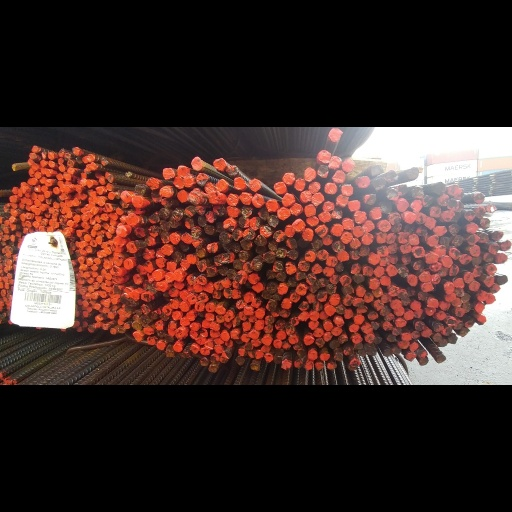dipstick: (292, 180, 305, 211), (213, 60, 226, 88), (329, 1, 342, 29), (384, 83, 398, 109), (342, 62, 355, 89), (353, 165, 366, 192), (316, 45, 330, 70), (369, 73, 383, 98), (252, 131, 264, 160), (441, 165, 456, 188), (372, 101, 385, 127), (436, 132, 449, 158), (266, 143, 278, 171), (282, 90, 294, 118), (191, 57, 202, 87), (146, 99, 159, 124), (208, 128, 221, 153), (222, 181, 235, 206), (273, 108, 286, 133), (319, 166, 332, 191), (331, 87, 344, 112), (380, 147, 393, 172), (233, 98, 245, 125), (125, 172, 138, 196), (162, 80, 174, 106), (239, 128, 251, 154), (277, 158, 289, 184), (315, 195, 328, 219), (356, 97, 369, 121), (226, 130, 237, 158), (387, 171, 401, 193), (273, 205, 285, 230), (308, 107, 320, 132), (336, 132, 348, 157), (434, 108, 446, 133), (429, 155, 441, 180), (400, 252, 412, 277), (159, 117, 172, 140), (311, 131, 324, 154), (363, 428, 376, 451), (176, 126, 187, 153), (205, 164, 216, 191), (377, 186, 391, 207), (120, 126, 132, 150), (150, 125, 162, 149), (172, 99, 184, 123), (188, 128, 200, 152), (341, 112, 353, 136), (407, 81, 419, 105), (413, 117, 425, 141), (362, 186, 374, 210), (413, 262, 425, 286), (386, 273, 398, 297), (249, 102, 260, 128), (249, 178, 260, 204), (242, 201, 255, 223), (283, 131, 294, 157), (331, 192, 342, 218), (317, 75, 328, 101), (348, 144, 361, 166), (411, 143, 422, 169), (416, 193, 427, 219), (296, 310, 307, 336), (304, 81, 314, 109), (433, 195, 447, 215), (158, 160, 170, 183), (206, 229, 218, 252), (240, 154, 252, 177), (254, 214, 266, 237), (304, 246, 316, 269), (370, 159, 382, 182), (466, 188, 478, 211), (427, 214, 439, 237), (429, 266, 441, 289), (371, 317, 383, 340), (169, 209, 180, 234), (404, 166, 415, 191), (389, 314, 400, 339), (355, 313, 366, 338), (285, 219, 298, 240), (324, 110, 337, 131), (448, 191, 461, 212), (433, 236, 446, 257), (425, 249, 438, 270), (303, 201, 313, 228), (330, 57, 340, 84), (143, 240, 154, 264), (148, 195, 159, 219), (177, 75, 188, 99), (204, 109, 216, 131), (226, 75, 238, 97), (226, 156, 238, 178), (181, 208, 192, 232), (161, 232, 172, 256), (290, 153, 301, 177), (304, 154, 316, 176), (375, 208, 386, 232), (459, 252, 471, 274), (449, 238, 460, 262), (373, 275, 385, 297), (132, 134, 142, 160), (143, 264, 153, 290), (196, 91, 206, 117), (173, 282, 183, 308), (258, 159, 268, 185), (251, 309, 264, 329), (116, 196, 127, 219), (148, 170, 159, 193), (172, 162, 183, 185), (184, 156, 195, 179), (277, 309, 288, 332), (290, 327, 301, 350), (285, 268, 296, 291), (332, 161, 343, 184), (397, 142, 408, 165), (398, 209, 409, 232), (368, 251, 379, 274), (323, 274, 334, 297), (306, 176, 318, 197), (386, 123, 398, 144), (342, 181, 354, 202), (466, 212, 478, 233), (453, 298, 465, 319), (361, 388, 373, 409), (213, 153, 223, 178), (216, 103, 226, 128), (285, 195, 295, 220), (178, 229, 191, 248), (364, 133, 377, 152), (332, 228, 345, 247), (114, 216, 125, 238), (113, 310, 124, 332), (204, 193, 215, 215), (178, 345, 189, 367), (238, 177, 249, 199), (260, 196, 271, 218), (300, 127, 311, 149), (251, 264, 262, 286), (281, 339, 292, 361), (298, 218, 309, 240), (311, 222, 322, 244), (298, 264, 309, 286), (362, 212, 373, 234), (326, 256, 337, 278), (452, 215, 463, 237), (483, 247, 494, 269), (441, 256, 452, 278), (377, 236, 388, 258), (380, 294, 391, 316), (312, 270, 323, 292), (340, 293, 351, 315), (126, 226, 136, 250), (152, 285, 164, 305), (268, 175, 278, 199), (295, 102, 305, 126), (267, 223, 277, 247), (416, 168, 426, 192), (491, 206, 503, 226), (496, 250, 508, 270), (444, 308, 454, 332), (486, 270, 496, 294), (382, 385, 394, 405), (370, 298, 380, 322), (184, 94, 193, 120), (236, 288, 245, 314), (399, 233, 412, 251), (420, 309, 433, 327), (135, 115, 146, 136), (134, 199, 145, 220), (144, 216, 155, 237), (159, 184, 170, 205), (229, 402, 240, 423), (275, 241, 286, 262), (286, 242, 297, 263), (317, 244, 328, 265), (353, 197, 364, 218), (338, 246, 349, 267), (473, 129, 484, 150), (439, 216, 450, 237), (478, 210, 489, 231), (488, 230, 499, 251), (469, 235, 480, 256), (413, 238, 424, 259), (393, 358, 404, 379), (132, 290, 142, 313), (169, 179, 179, 202), (196, 265, 206, 288), (186, 291, 196, 314), (175, 399, 185, 422), (266, 341, 276, 364), (423, 135, 433, 158), (409, 211, 419, 234), (425, 178, 435, 201), (329, 331, 339, 354), (447, 144, 459, 163), (419, 287, 431, 306), (379, 355, 391, 374), (180, 261, 189, 286), (364, 274, 373, 299), (123, 261, 133, 283), (136, 272, 146, 294), (184, 180, 194, 202), (166, 265, 176, 287), (196, 294, 207, 314), (156, 306, 167, 326), (219, 210, 230, 230), (255, 235, 266, 255), (242, 329, 253, 349), (261, 414, 272, 434), (322, 214, 332, 236), (322, 147, 333, 167), (342, 210, 352, 232), (391, 189, 402, 209), (386, 211, 396, 233), (463, 349, 473, 371), (368, 364, 379, 384), (334, 443, 344, 465), (303, 414, 314, 434), (323, 384, 333, 406), (298, 366, 309, 386), (325, 353, 335, 375), (335, 352, 345, 374), (133, 402, 142, 426), (160, 206, 169, 230), (455, 121, 464, 145), (476, 158, 485, 182), (449, 273, 458, 297), (464, 287, 473, 311), (434, 365, 446, 383), (424, 357, 436, 375), (394, 379, 406, 397), (343, 333, 352, 357), (47, 45, 57, 66), (195, 154, 205, 175), (191, 199, 201, 220), (155, 259, 165, 280), (195, 238, 205, 259), (168, 341, 178, 362), (198, 327, 208, 348), (221, 299, 231, 320), (230, 227, 240, 248), (231, 321, 241, 342), (248, 290, 258, 311), (281, 460, 291, 481), (448, 114, 458, 135), (465, 165, 475, 186), (480, 180, 490, 201), (388, 253, 398, 274), (398, 278, 408, 299), (484, 296, 494, 317), (448, 409, 458, 430), (308, 441, 318, 462), (334, 375, 344, 396), (319, 363, 329, 384), (326, 311, 336, 332), (161, 141, 172, 160), (241, 224, 252, 243), (238, 246, 249, 265), (276, 403, 287, 422), (357, 354, 368, 373), (343, 434, 354, 453), (329, 421, 340, 440), (296, 440, 307, 459), (313, 398, 324, 417), (341, 316, 354, 332), (197, 174, 206, 197), (264, 447, 273, 470), (486, 330, 495, 353), (373, 342, 382, 365), (364, 328, 373, 351), (496, 295, 508, 312), (404, 447, 416, 464), (308, 312, 320, 329), (71, 38, 81, 58), (155, 240, 165, 260), (186, 253, 196, 273), (206, 277, 216, 297), (266, 309, 276, 329), (264, 249, 274, 269), (351, 221, 361, 241), (404, 364, 414, 384), (309, 365, 319, 385), (350, 270, 360, 290), (317, 326, 327, 346), (112, 294, 123, 312), (140, 350, 149, 372), (131, 385, 142, 403), (143, 395, 154, 413), (192, 223, 203, 241), (192, 310, 203, 328), (179, 322, 188, 344), (204, 308, 213, 330), (225, 364, 234, 386), (235, 455, 246, 473), (473, 276, 482, 298), (469, 307, 480, 325), (428, 342, 439, 360), (401, 406, 412, 424), (337, 411, 348, 429), (314, 419, 325, 437), (353, 291, 364, 309), (295, 287, 306, 305), (112, 235, 124, 251), (172, 248, 182, 267), (156, 400, 166, 419), (205, 349, 215, 368), (254, 385, 264, 404), (251, 340, 261, 359), (266, 282, 276, 301), (273, 269, 283, 288), (384, 369, 394, 388), (390, 342, 400, 361), (400, 339, 410, 358), (365, 409, 375, 428), (318, 299, 328, 318), (312, 346, 322, 365), (306, 291, 316, 310), (113, 255, 122, 276), (187, 331, 196, 352), (241, 385, 250, 406), (262, 322, 271, 343), (277, 286, 286, 307), (288, 411, 297, 432), (501, 225, 510, 246), (439, 276, 448, 297), (408, 294, 417, 315), (111, 278, 122, 295), (200, 437, 211, 454), (222, 253, 233, 270), (270, 359, 281, 376), (165, 287, 173, 310), (233, 202, 241, 225), (344, 359, 352, 382), (194, 347, 204, 365), (162, 355, 171, 375), (159, 367, 169, 385), (172, 364, 181, 384), (210, 385, 220, 403), (208, 470, 218, 488), (220, 406, 229, 426), (212, 323, 221, 343), (233, 264, 243, 282), (226, 282, 235, 302), (240, 409, 250, 427), (249, 403, 259, 421), (255, 361, 264, 381), (275, 384, 285, 402), (288, 296, 297, 316), (273, 420, 282, 440), (294, 460, 304, 478), (359, 238, 369, 256), (486, 153, 496, 171), (471, 256, 481, 274), (431, 291, 440, 311), (477, 326, 487, 344), (475, 349, 484, 369), (451, 339, 461, 357), (460, 330, 469, 350), (455, 357, 464, 377), (418, 325, 428, 343), (406, 318, 416, 336), (411, 345, 421, 363), (419, 457, 429, 475), (409, 426, 418, 446), (380, 330, 390, 348), (354, 372, 364, 390), (350, 458, 360, 476), (299, 346, 309, 364), (306, 330, 315, 350), (329, 293, 339, 311), (209, 400, 220, 416), (244, 268, 252, 290), (251, 421, 262, 437), (397, 424, 408, 440), (421, 401, 432, 417), (352, 410, 363, 426), (308, 384, 319, 400), (120, 333, 129, 352), (146, 413, 155, 432), (142, 302, 151, 321), (156, 424, 165, 443), (200, 457, 209, 476), (213, 255, 222, 274), (236, 343, 245, 362), (281, 360, 290, 379), (477, 373, 486, 392), (415, 385, 424, 404), (141, 330, 151, 347), (168, 321, 178, 338), (154, 384, 164, 401), (173, 429, 183, 446), (215, 355, 225, 372), (215, 371, 225, 388), (247, 373, 257, 390), (222, 443, 232, 460), (387, 234, 397, 251), (465, 381, 475, 398), (434, 387, 444, 404), (433, 407, 443, 424), (349, 389, 359, 406), (331, 397, 341, 414), (124, 317, 132, 338), (223, 319, 231, 340), (286, 391, 294, 412), (398, 321, 406, 342), (323, 405, 331, 426), (173, 306, 184, 321), (293, 427, 304, 442), (387, 411, 398, 426), (80, 171, 89, 189), (140, 378, 149, 396), (186, 366, 195, 384), (209, 450, 218, 468), (214, 432, 223, 450), (217, 276, 226, 294), (255, 441, 264, 459), (350, 245, 359, 263), (459, 398, 468, 416), (437, 451, 446, 469), (30, 35, 40, 51), (131, 324, 139, 344), (189, 388, 199, 404), (214, 417, 224, 433), (249, 469, 259, 485), (379, 260, 389, 276), (454, 319, 464, 335), (446, 379, 456, 395), (442, 397, 452, 413), (382, 439, 392, 455), (353, 338, 363, 354), (320, 448, 330, 464), (314, 465, 324, 481), (335, 268, 343, 288), (216, 188, 223, 210), (38, 63, 47, 80), (47, 65, 56, 82), (30, 72, 39, 89), (104, 151, 113, 168), (205, 368, 214, 385), (205, 420, 214, 437), (244, 358, 253, 375), (238, 368, 247, 385), (264, 392, 273, 409), (261, 433, 270, 450), (491, 311, 500, 328), (411, 404, 420, 421), (392, 397, 401, 414), (87, 52, 95, 71), (119, 174, 127, 193), (146, 289, 154, 308), (190, 431, 198, 450), (440, 345, 448, 364), (80, 188, 90, 203), (222, 232, 232, 247), (418, 443, 428, 458), (290, 378, 300, 393), (9, 161, 19, 176), (57, 41, 65, 59), (56, 59, 65, 75), (57, 74, 66, 90), (75, 57, 83, 75), (109, 169, 118, 185), (164, 410, 173, 426), (167, 399, 176, 415), (168, 385, 177, 401), (214, 306, 222, 324), (237, 439, 246, 455), (224, 422, 233, 438), (247, 440, 255, 458), (282, 425, 290, 443), (370, 385, 379, 401), (327, 465, 336, 481), (438, 422, 449, 435), (165, 444, 175, 458), (272, 330, 282, 344), (274, 440, 284, 454), (101, 171, 109, 188), (103, 265, 111, 282), (189, 403, 197, 420), (414, 362, 422, 379), (305, 465, 313, 482), (59, 131, 68, 146), (180, 380, 189, 395), (196, 416, 205, 431), (223, 385, 232, 400), (265, 375, 274, 390), (40, 46, 47, 65), (90, 69, 97, 88), (86, 257, 93, 276), (200, 398, 207, 417), (232, 302, 239, 321), (27, 49, 37, 62), (26, 60, 34, 76), (63, 50, 71, 66), (55, 90, 63, 106), (63, 90, 71, 106), (63, 200, 71, 216), (97, 141, 105, 157), (83, 212, 91, 228), (115, 159, 123, 175), (201, 382, 209, 398), (455, 386, 463, 402), (358, 440, 366, 456), (27, 81, 34, 99), (40, 79, 47, 97), (101, 59, 108, 77), (94, 87, 103, 101), (150, 365, 157, 383), (232, 379, 239, 397), (244, 428, 253, 442), (219, 455, 228, 469), (66, 64, 74, 79), (93, 191, 101, 206), (374, 415, 382, 430), (34, 87, 41, 104), (72, 141, 79, 158), (107, 128, 114, 145), (95, 218, 102, 235), (125, 352, 132, 369), (10, 72, 17, 88), (45, 83, 52, 99), (67, 79, 75, 93), (39, 98, 46, 114), (45, 103, 52, 119), (75, 114, 82, 130), (34, 174, 42, 188), (96, 119, 104, 133), (109, 182, 117, 196), (102, 189, 109, 205), (105, 208, 113, 222), (93, 258, 101, 272), (79, 271, 87, 285), (103, 342, 110, 358), (197, 366, 205, 380), (274, 453, 281, 469), (445, 332, 453, 346), (2, 198, 10, 212), (86, 104, 92, 122), (90, 201, 96, 219), (8, 148, 17, 160), (31, 101, 38, 116), (99, 100, 106, 115), (30, 129, 37, 144), (86, 151, 93, 166), (91, 159, 98, 174), (108, 196, 115, 211), (90, 223, 97, 238), (96, 245, 103, 260), (87, 314, 94, 329), (73, 385, 80, 400), (166, 431, 174, 444), (354, 427, 362, 440), (9, 135, 17, 148), (106, 111, 112, 128), (95, 174, 101, 191), (101, 243, 107, 260), (11, 117, 17, 134), (80, 89, 87, 103), (56, 106, 63, 120), (34, 115, 41, 129), (52, 119, 59, 133), (53, 147, 60, 161), (65, 144, 72, 158), (48, 158, 55, 172), (59, 175, 66, 189), (66, 184, 73, 198), (73, 175, 80, 189), (89, 181, 96, 195), (79, 242, 86, 256), (90, 271, 97, 285), (96, 294, 103, 308), (183, 443, 190, 457), (9, 191, 16, 205), (2, 212, 9, 226), (1, 239, 8, 253), (38, 132, 44, 148), (86, 165, 92, 181), (69, 229, 75, 245), (96, 205, 104, 217), (4, 182, 10, 198), (82, 55, 87, 74), (44, 168, 51, 181), (32, 187, 39, 200), (52, 187, 59, 200), (78, 257, 85, 270), (83, 286, 90, 299), (86, 298, 93, 311), (92, 309, 99, 322), (105, 316, 112, 329), (99, 326, 106, 339), (82, 344, 89, 357), (82, 365, 89, 378), (110, 339, 117, 352), (117, 381, 124, 394), (107, 368, 114, 381), (132, 372, 139, 385), (8, 176, 15, 189), (7, 222, 14, 235), (80, 102, 86, 117), (80, 131, 86, 146), (79, 319, 85, 334), (8, 239, 14, 254), (78, 301, 86, 312), (96, 373, 104, 384), (108, 94, 113, 111), (125, 87, 131, 101), (60, 114, 66, 128), (18, 149, 25, 161), (44, 128, 50, 142), (26, 141, 32, 155), (41, 182, 47, 196), (46, 196, 53, 208), (51, 172, 57, 186), (66, 166, 72, 180), (75, 158, 81, 172), (78, 228, 84, 242), (86, 237, 92, 251), (100, 230, 107, 242), (105, 241, 111, 255), (100, 281, 106, 295), (105, 289, 111, 303), (104, 303, 111, 315), (91, 329, 97, 343), (93, 350, 100, 362), (102, 357, 109, 369), (89, 390, 96, 402), (87, 397, 94, 409), (110, 398, 116, 412), (123, 389, 130, 401), (111, 353, 118, 365), (393, 435, 399, 449), (10, 213, 16, 227), (104, 88, 109, 104), (64, 106, 72, 116), (100, 308, 105, 324), (4, 152, 9, 168), (83, 79, 89, 92), (41, 116, 47, 129), (20, 118, 26, 131), (34, 144, 40, 157), (25, 186, 31, 199), (22, 199, 28, 212), (89, 126, 95, 139), (78, 285, 84, 298), (91, 285, 97, 298), (89, 343, 95, 356), (102, 390, 108, 403), (124, 366, 130, 379), (1, 224, 7, 237), (4, 236, 10, 249), (6, 262, 12, 275), (4, 309, 10, 322), (80, 159, 87, 170), (114, 330, 121, 341), (118, 399, 125, 410), (119, 373, 126, 384), (118, 363, 125, 374), (135, 363, 142, 374), (5, 273, 12, 284), (86, 73, 91, 88), (64, 117, 69, 132), (31, 154, 36, 169), (35, 160, 40, 175), (20, 172, 25, 187), (76, 203, 81, 218), (75, 364, 80, 379), (1, 323, 6, 338), (26, 119, 32, 131), (46, 141, 52, 153), (25, 154, 31, 166), (59, 147, 65, 159), (39, 196, 45, 208), (28, 199, 34, 211), (15, 207, 21, 219), (64, 157, 70, 169), (17, 124, 22, 138), (108, 223, 113, 237), (77, 341, 82, 355), (2, 263, 7, 277), (7, 319, 12, 333), (86, 356, 92, 367), (76, 395, 82, 406), (18, 219, 24, 230), (16, 230, 22, 241), (7, 289, 13, 300), (21, 138, 26, 151), (40, 153, 45, 166), (26, 170, 31, 183), (48, 184, 53, 197), (60, 161, 65, 174), (100, 341, 105, 354), (82, 384, 87, 397), (25, 129, 30, 141), (88, 139, 93, 151), (109, 328, 115, 338), (6, 249, 11, 261), (7, 333, 12, 345), (20, 188, 25, 199), (13, 253, 18, 264), (4, 278, 9, 289), (3, 297, 8, 308), (0, 306, 3, 323), (9, 303, 14, 313), (6, 345, 11, 355), (27, 103, 31, 115), (5, 356, 11, 364)
